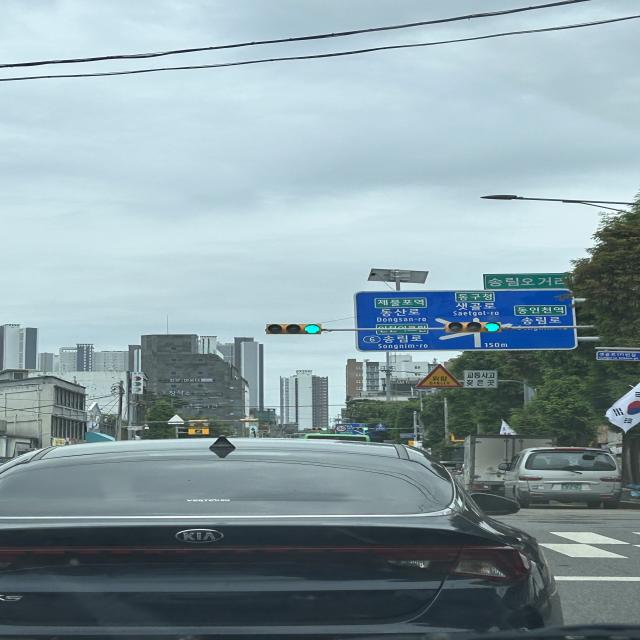Green Light: (302, 324, 322, 334), (483, 322, 501, 332)
